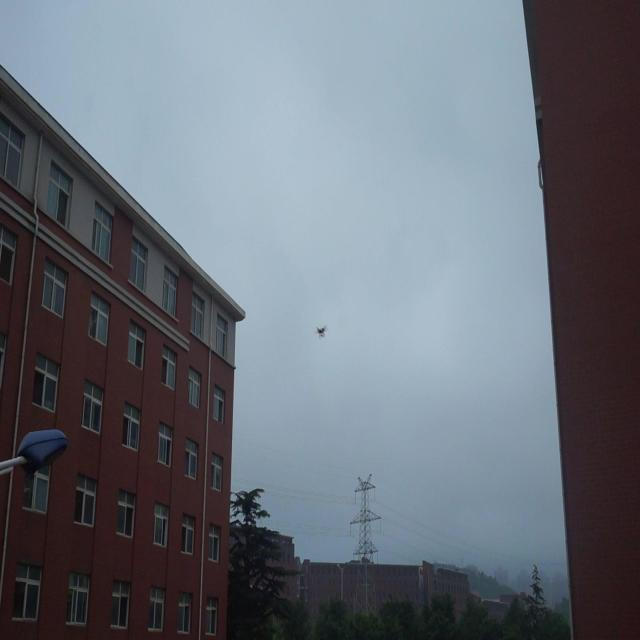drone: (314, 320, 329, 342)
